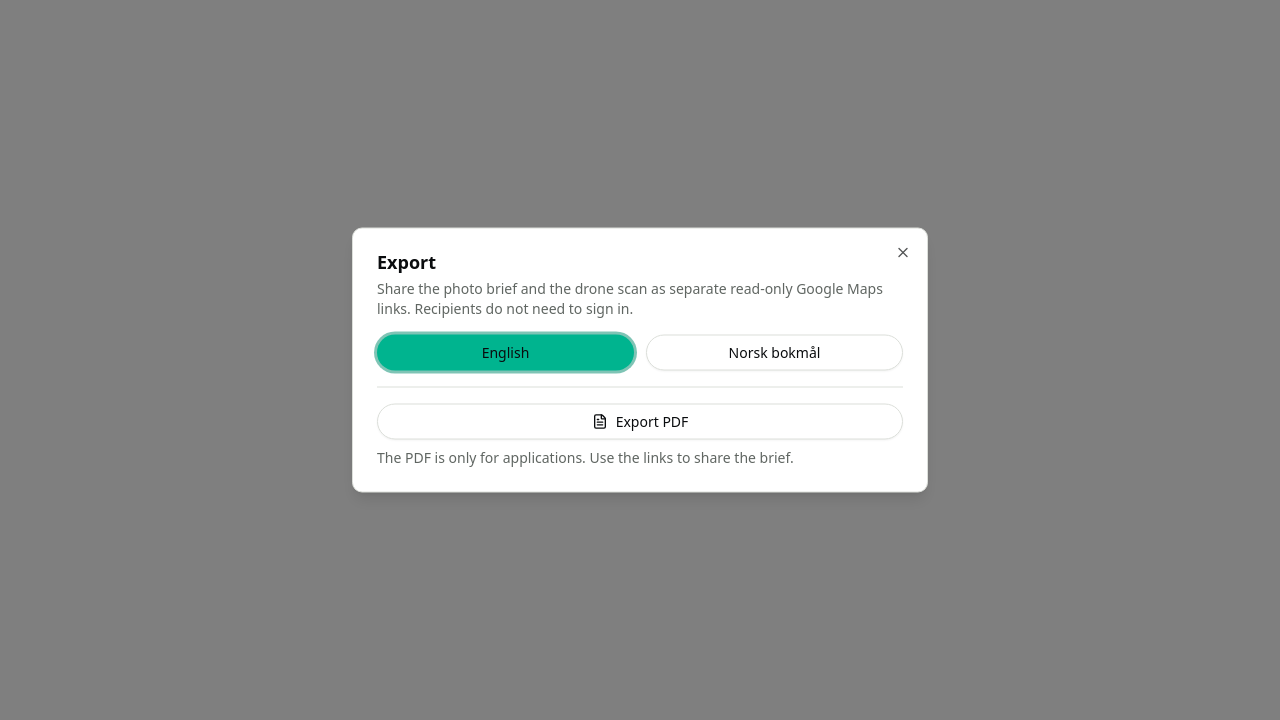
Test: shows the complete saved range alongside only its matching sun periods
The width and height of the screenshot is (1280, 720).
Click the button "Export PDF": coordinates (640, 422) [377,404,903,440]
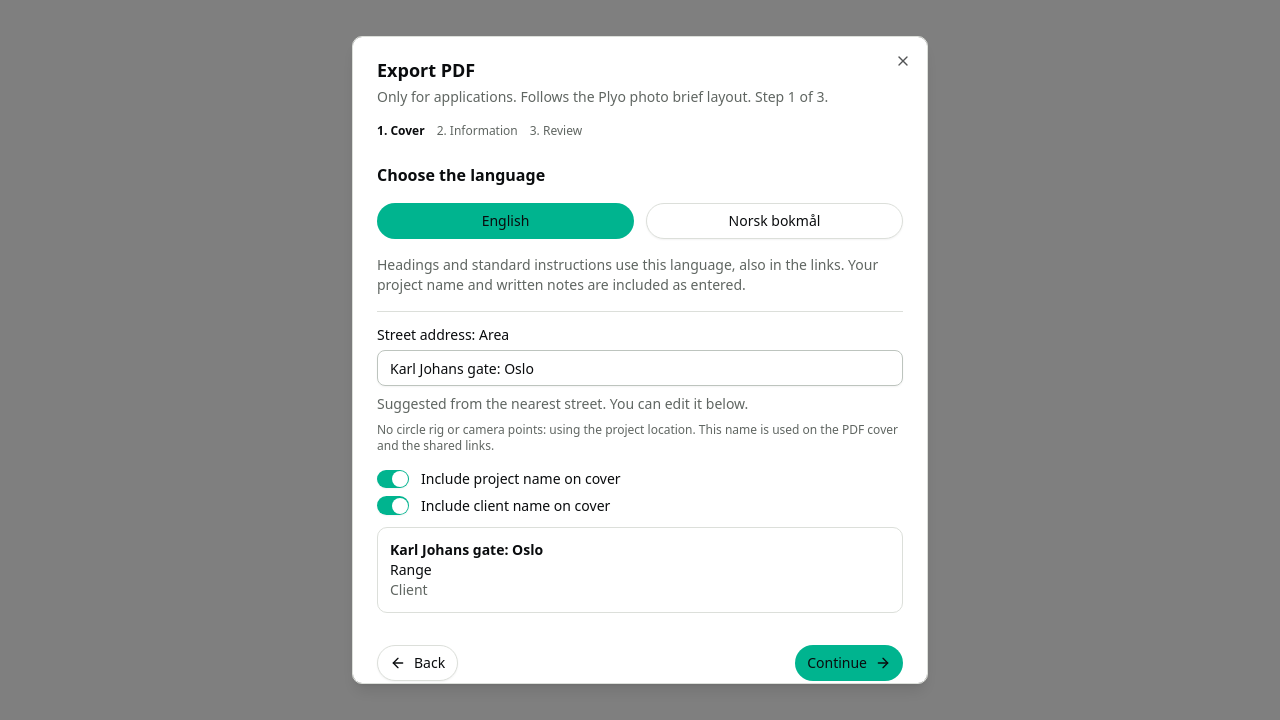
Click the button "Continue": coordinates (849, 663) [795,645,903,681]
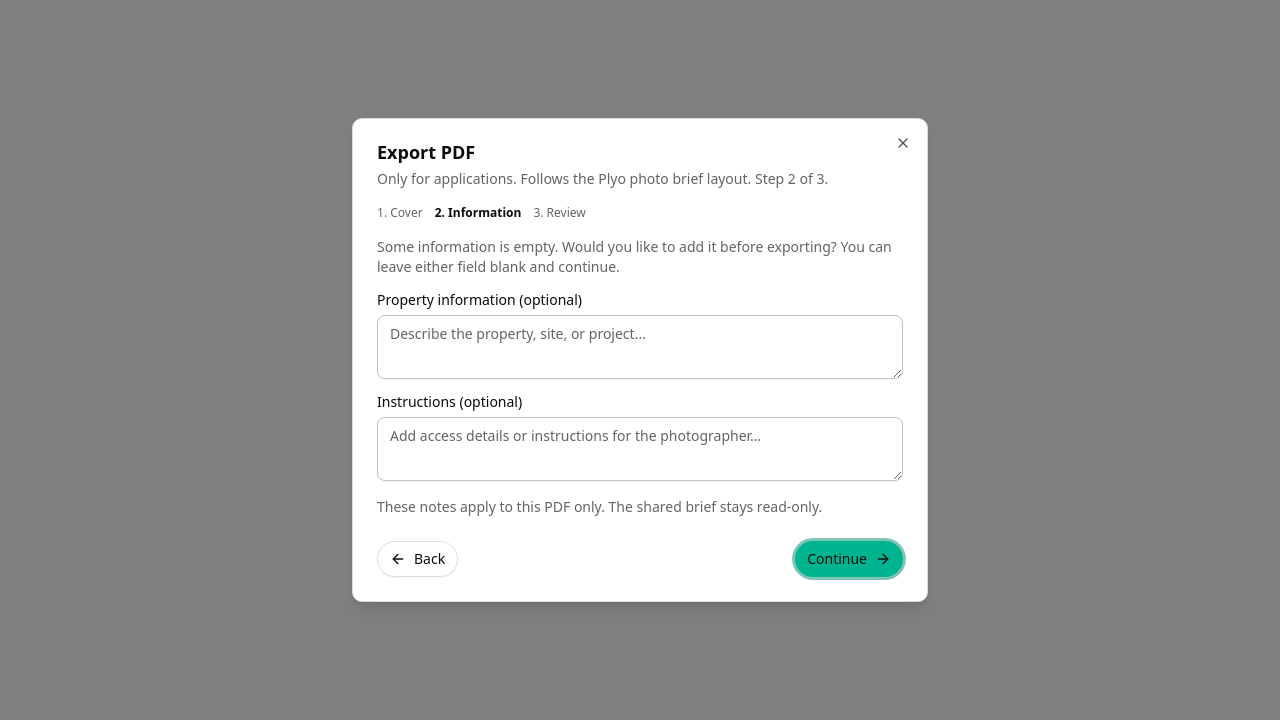
Click the button "Continue": coordinates (849, 559) [795,541,903,577]
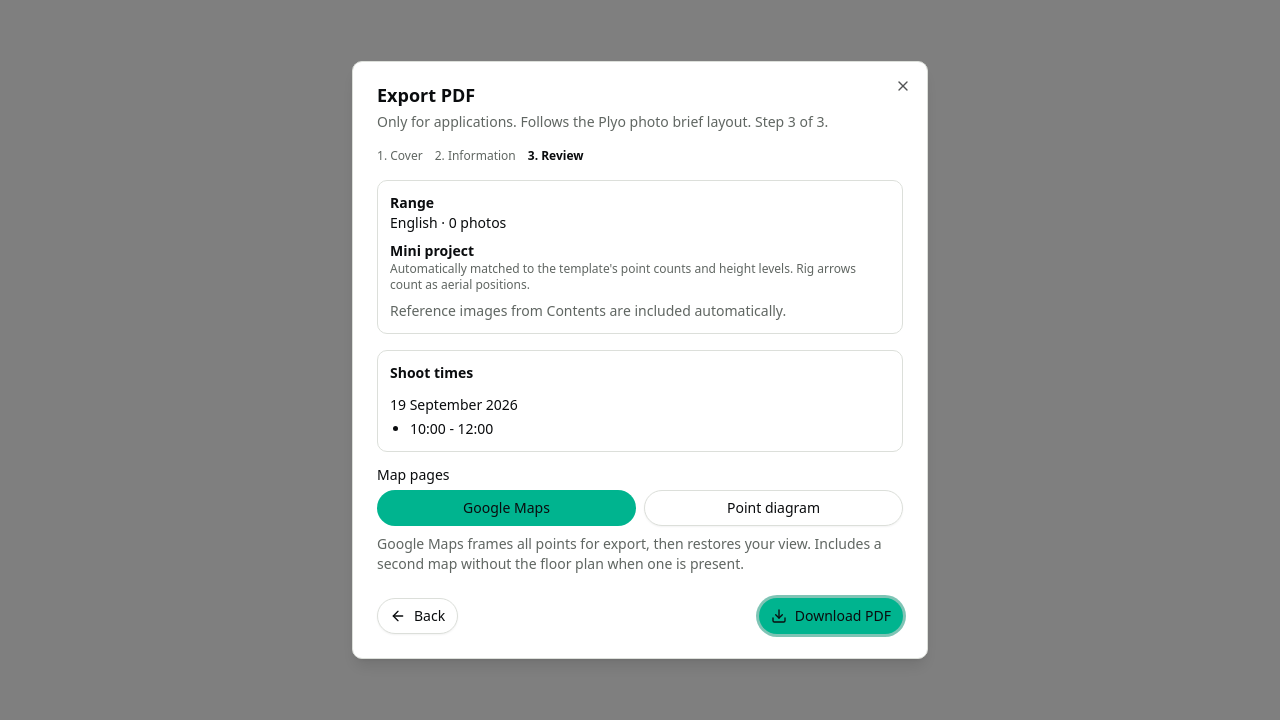
Now the list item "10:00 - 12:00" is shown, box [410,419,493,438]
